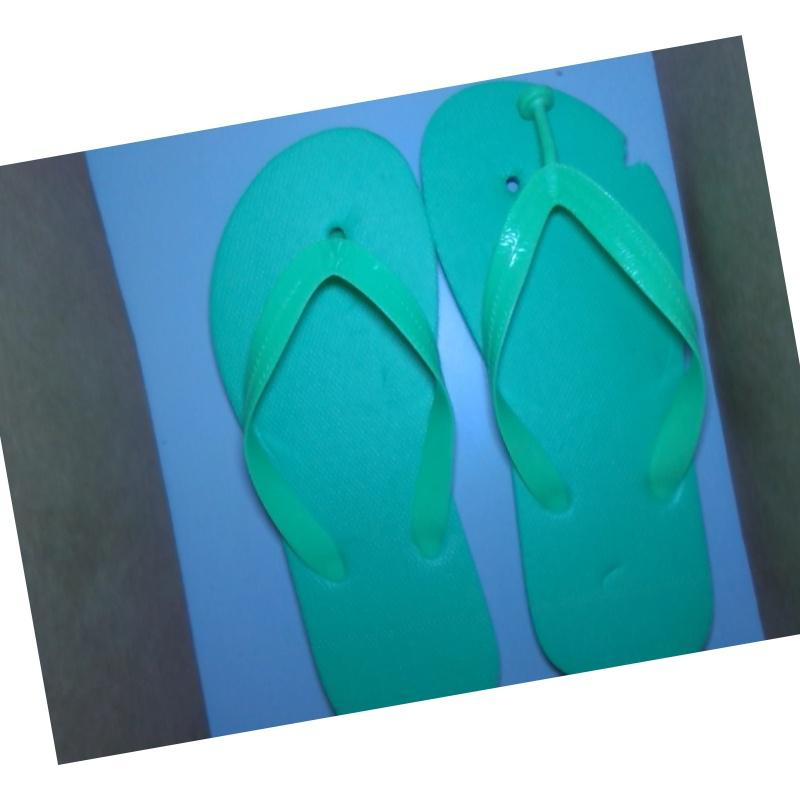chipped: (606, 121, 672, 183)
detached: (511, 79, 572, 149)
